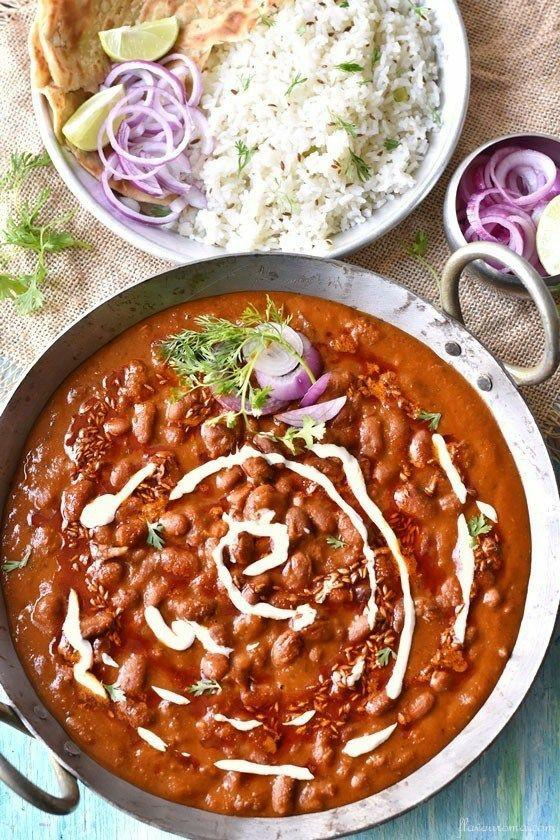RajmaCurry: (0, 290, 533, 816)
WhiteRice: (195, 0, 438, 254)
